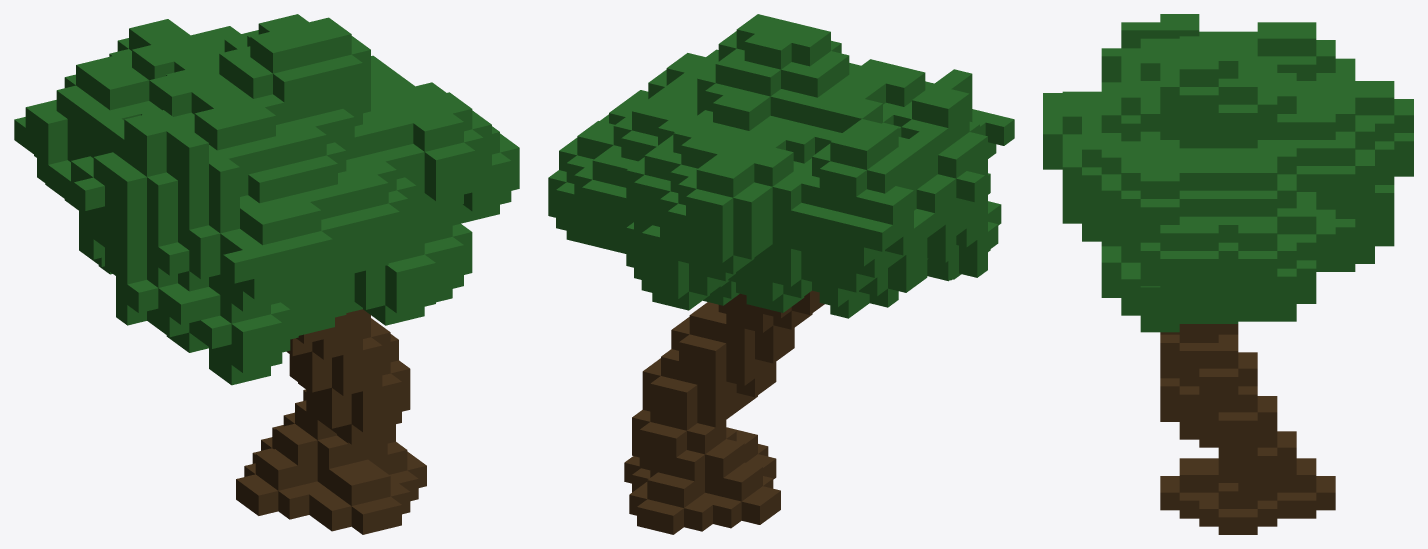
The model's file is Tree2.obj.
3 renders of one model, left to right at view 1: azimuth 30°, elevation 25°; view 2: azimuth 150°, elevation 25°; view 3: azimuth 270°, elevation 25°, orthographic. The views are drawn at different scales.
Visible parts, largest first — view 1: Tree2; view 2: Tree2; view 3: Tree2.
Part boxes in pixels (left/top/right/bottom): Tree2: left=14, top=14, right=519, bottom=534; Tree2: left=548, top=14, right=1014, bottom=534; Tree2: left=1043, top=14, right=1413, bottom=534.
Size of the model in its own units: 21 by 24 by 19.
Materials: 1 (1 with a texture image).
